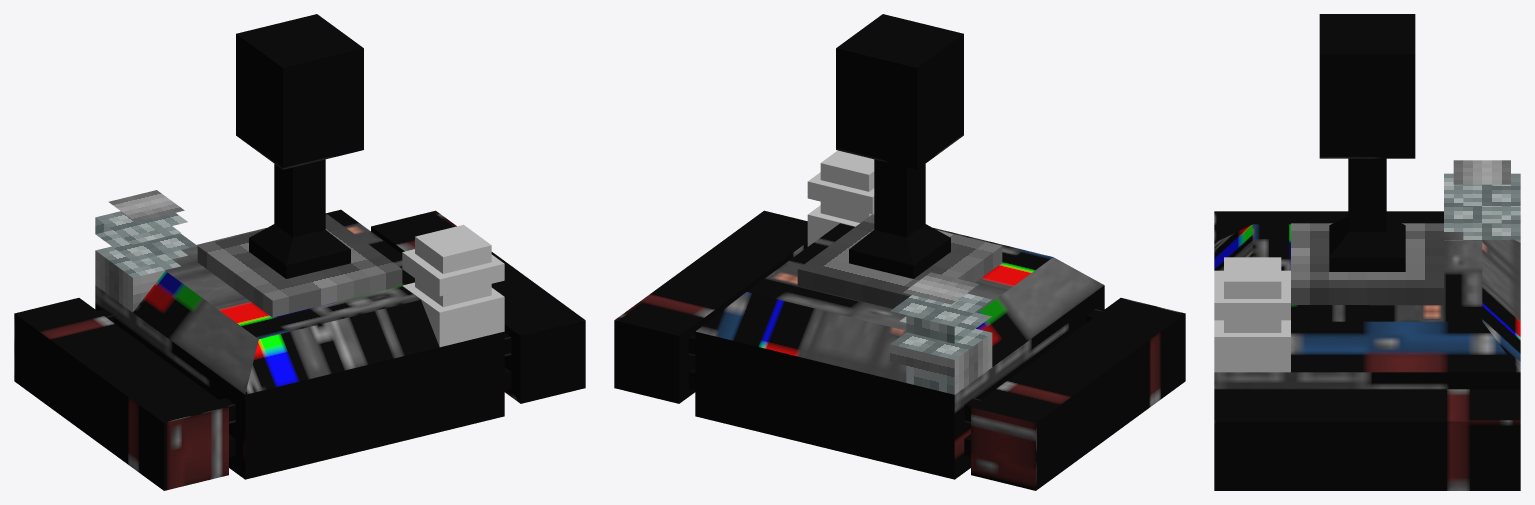
The model's file is chemical_dispenser_inv.obj.
The picture shows the model from 3 angles, left to right: view 1: azimuth 30°, elevation 25°; view 2: azimuth 150°, elevation 25°; view 3: azimuth 270°, elevation 25°; orthographic projection. The views are drawn at different scales.
Parts seen in each view (by area): view 1: main, nozzle; view 2: main, nozzle; view 3: main, nozzle.
Boxes of the visible parts, x1,y1,x2,y2 form: main: [14, 190, 585, 490]; nozzle: [236, 14, 363, 278]; main: [614, 150, 1185, 490]; nozzle: [836, 14, 963, 278]; main: [1214, 160, 1520, 490]; nozzle: [1319, 14, 1415, 271].
Bounding box in the file's own units: 1.62 × 1.36 × 1.
